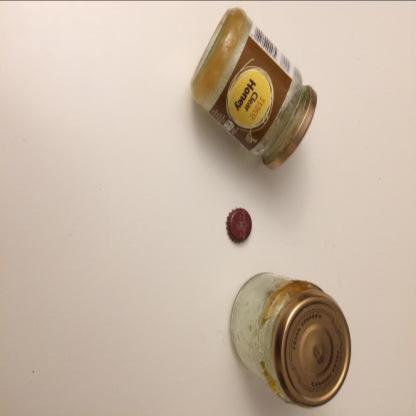Bottle: (226, 208, 252, 244)
Lid: (273, 289, 351, 408), (262, 86, 317, 170)
Other litter: (191, 7, 317, 170), (231, 272, 351, 409)
